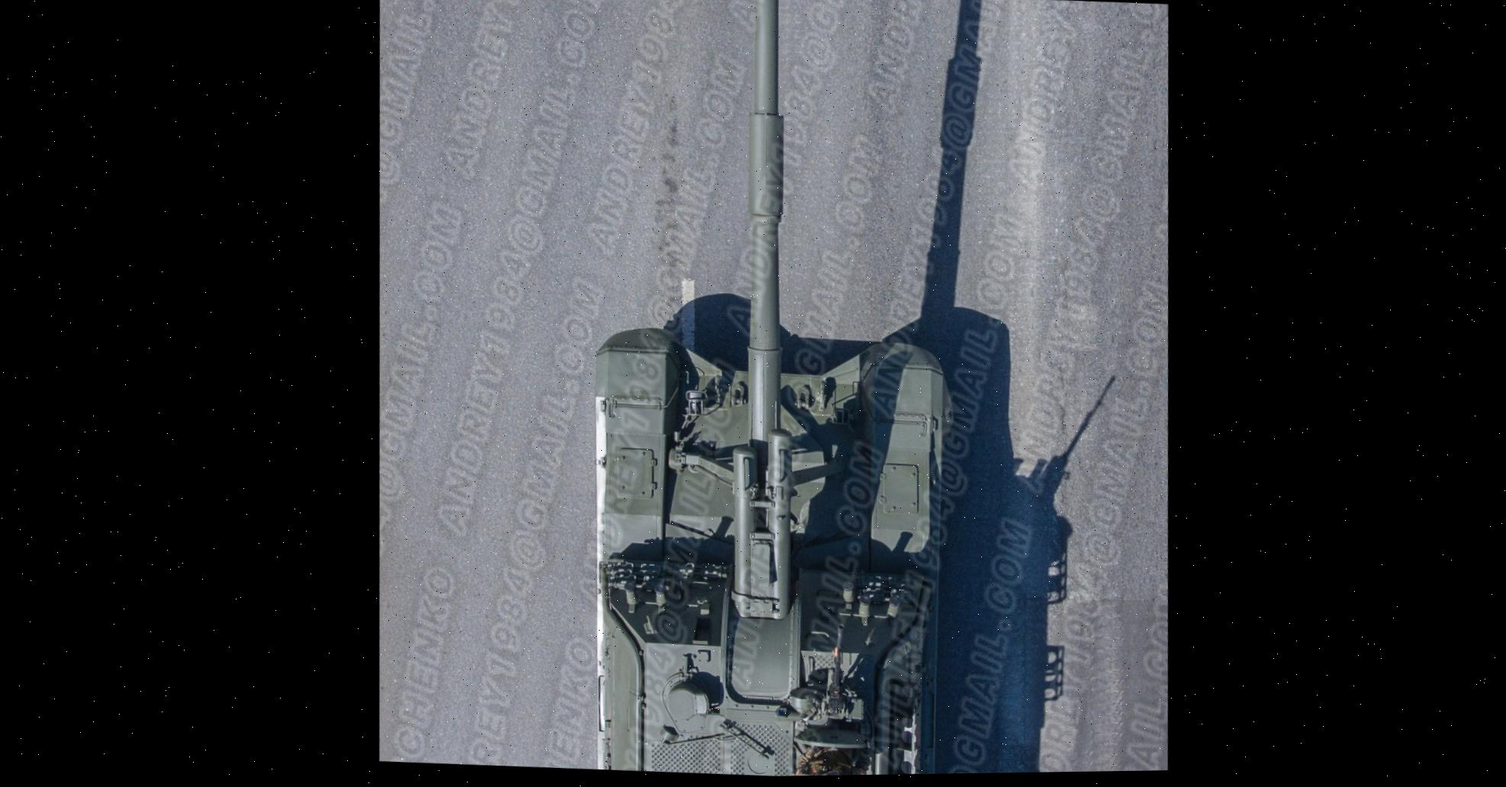tank: (555, 0, 985, 779)
